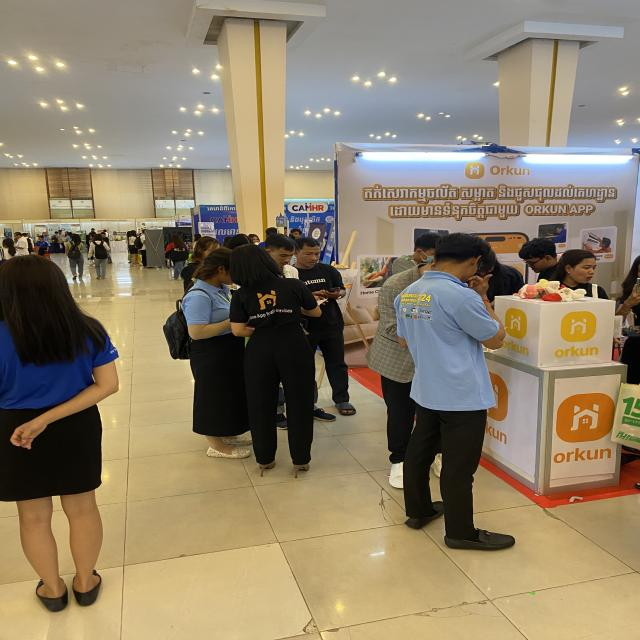2: (358, 183, 621, 205)
Yolov11_80vkh: (385, 201, 526, 222), (206, 205, 237, 212), (288, 215, 306, 224)
